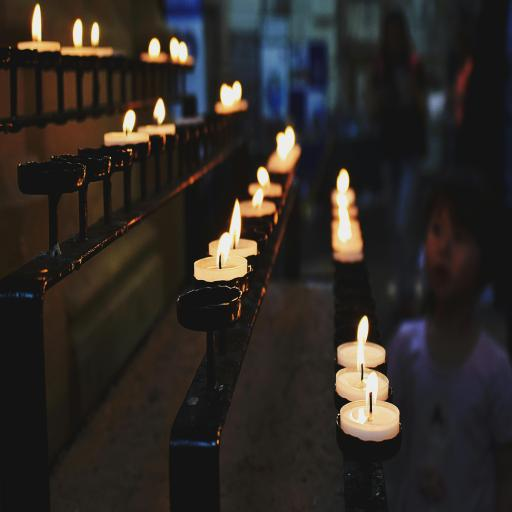candlelight: (332, 172, 360, 259), (193, 254, 249, 283), (208, 236, 258, 259), (103, 130, 149, 153), (355, 317, 368, 385), (276, 126, 296, 160), (220, 80, 242, 108), (31, 3, 42, 44), (153, 97, 166, 127), (251, 186, 265, 210), (72, 19, 83, 49)
